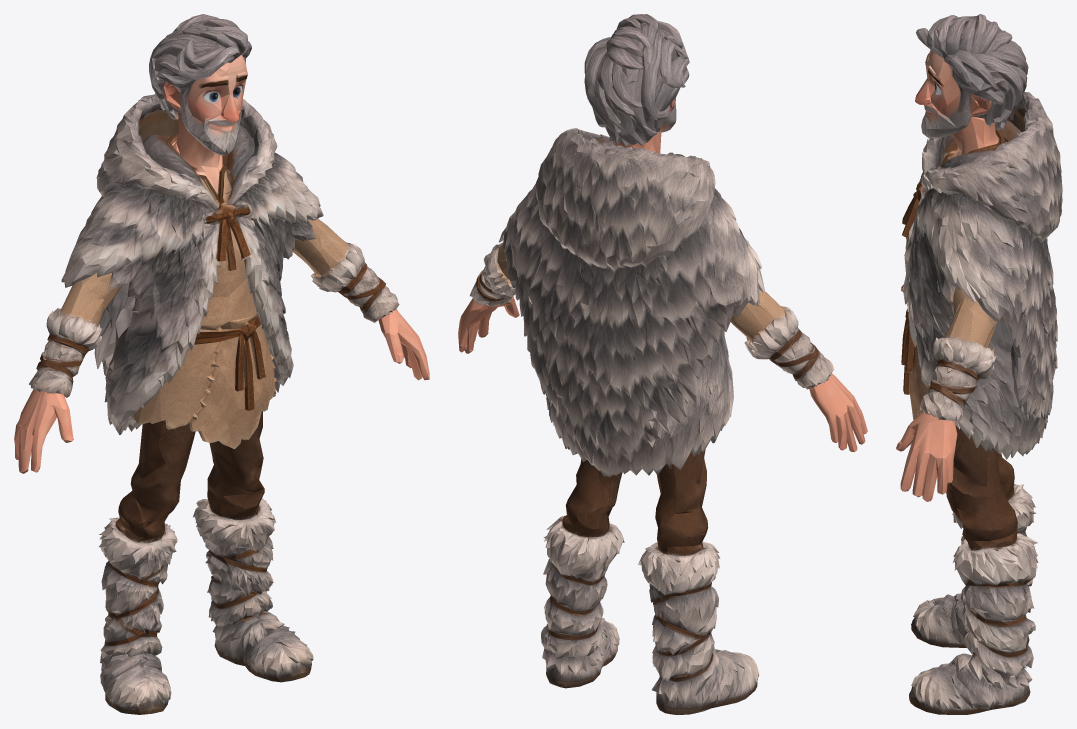
File: violinist_iceage.fbx
3 renders of one model, left to right at view 1: azimuth 30°, elevation 25°; view 2: azimuth 150°, elevation 25°; view 3: azimuth 270°, elevation 25°, orthographic.
Visible parts, largest first — view 1: violinist_iceage; view 2: violinist_iceage; view 3: violinist_iceage.
Part boxes in pixels (x1,y1,x2,y2): violinist_iceage: (14, 14, 429, 714); violinist_iceage: (458, 14, 867, 714); violinist_iceage: (896, 14, 1062, 714).
Bounding box in the file's own units: 1.18 × 1.85 × 0.4238.
1 material, 1 textured.
